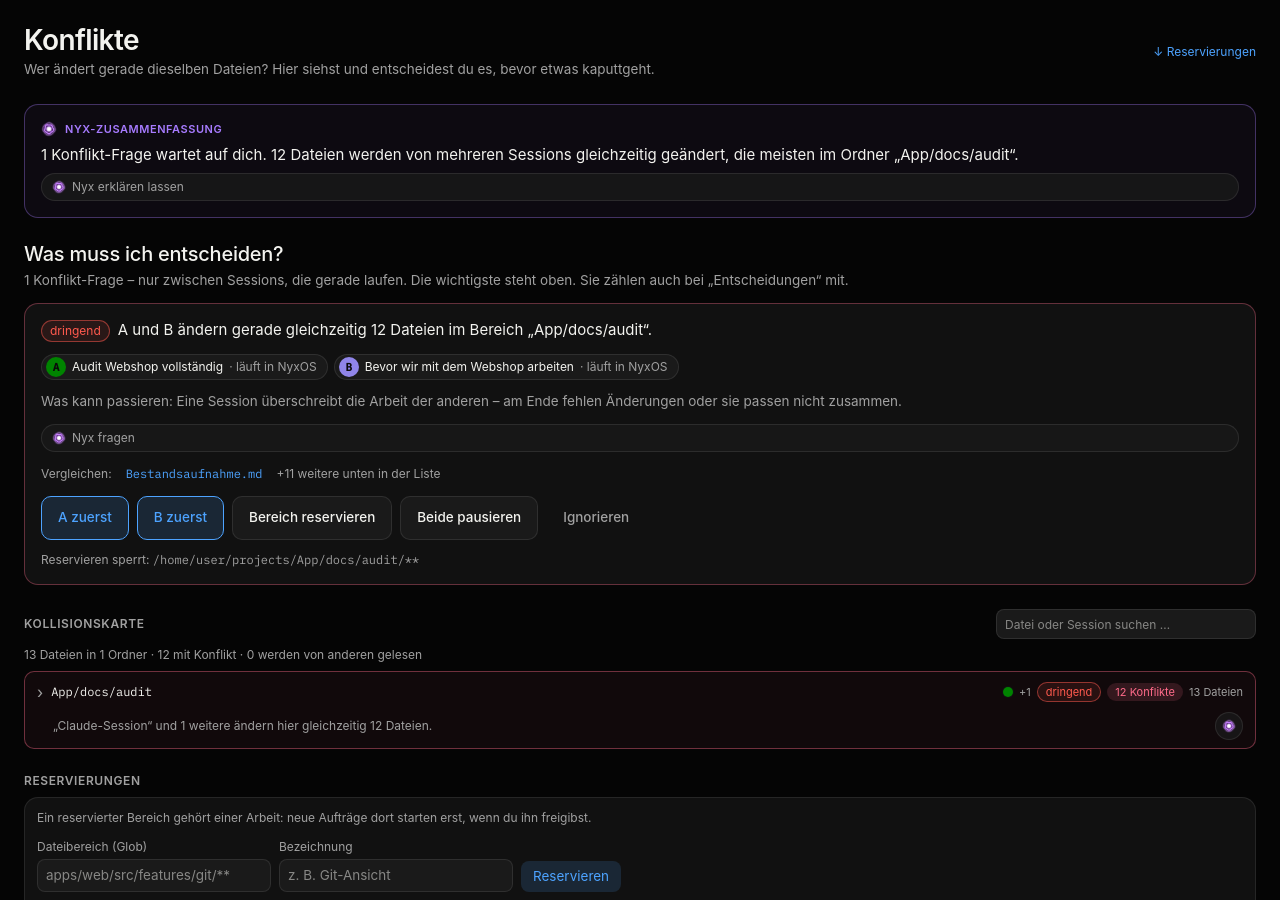
Test: Reservierungen von Hand › eine überlappende Reservierung wird abgelehnt, mit Begründung
Type "apps/web/src/features/git/Panel.tsx" into the field labelled "Dateibereich (Glob)" at (154, 876), box x1=37 y1=859 x2=271 y2=892
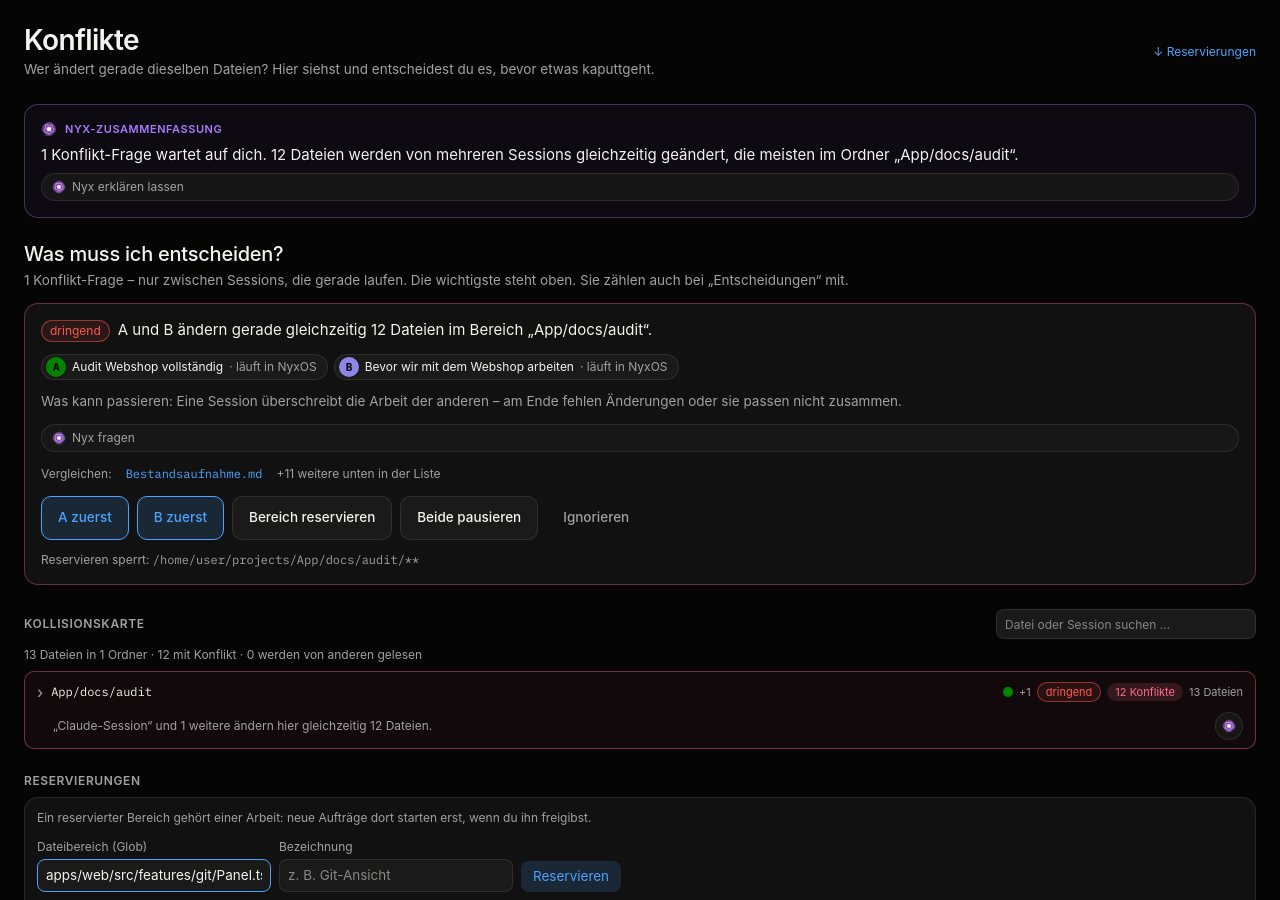
Type "Konkurrierend" into the field labelled "Bezeichnung" at (396, 876), box x1=279 y1=859 x2=513 y2=892
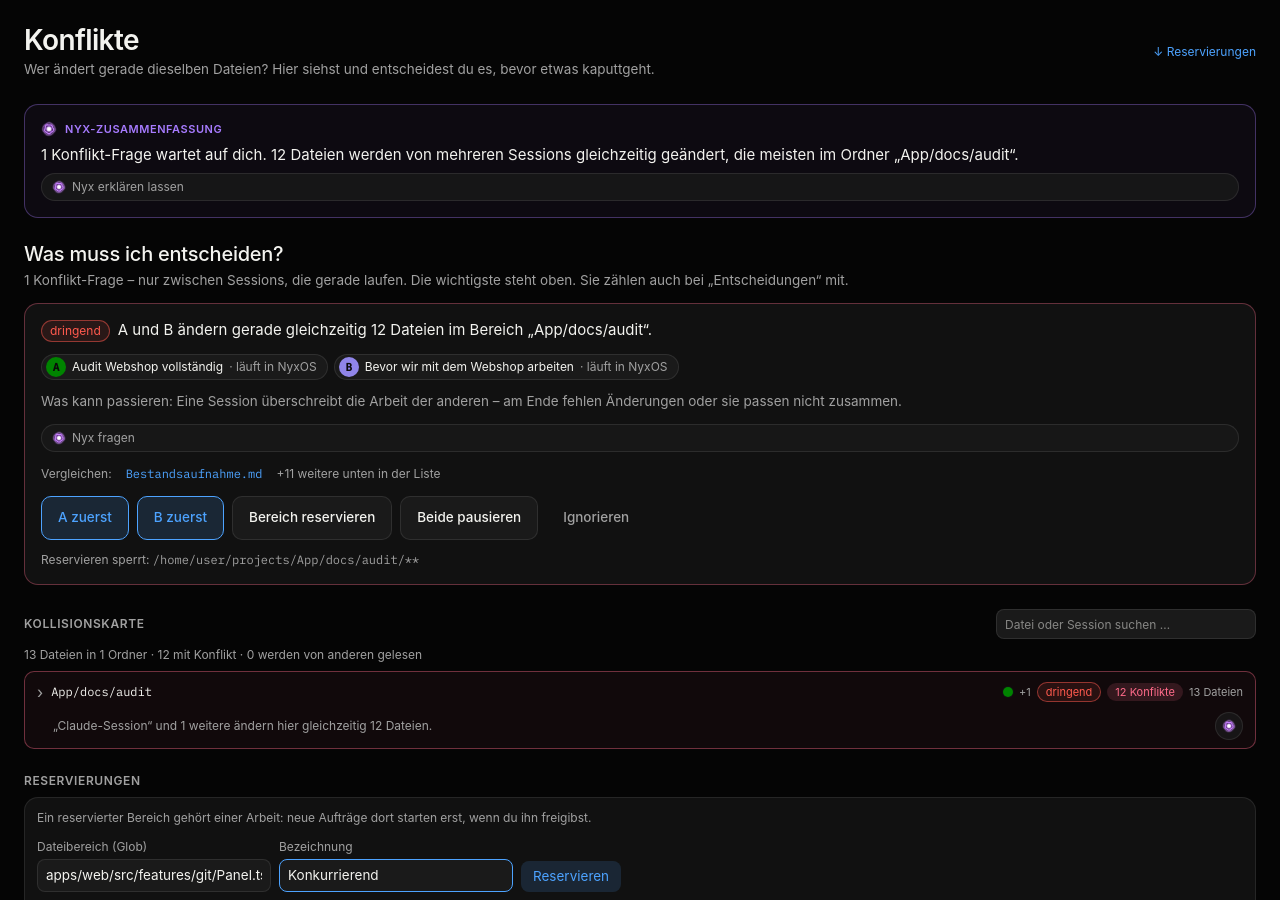
Click the button "Reservieren" at (571, 877), box x1=521 y1=861 x2=621 y2=892
(page scrolled)
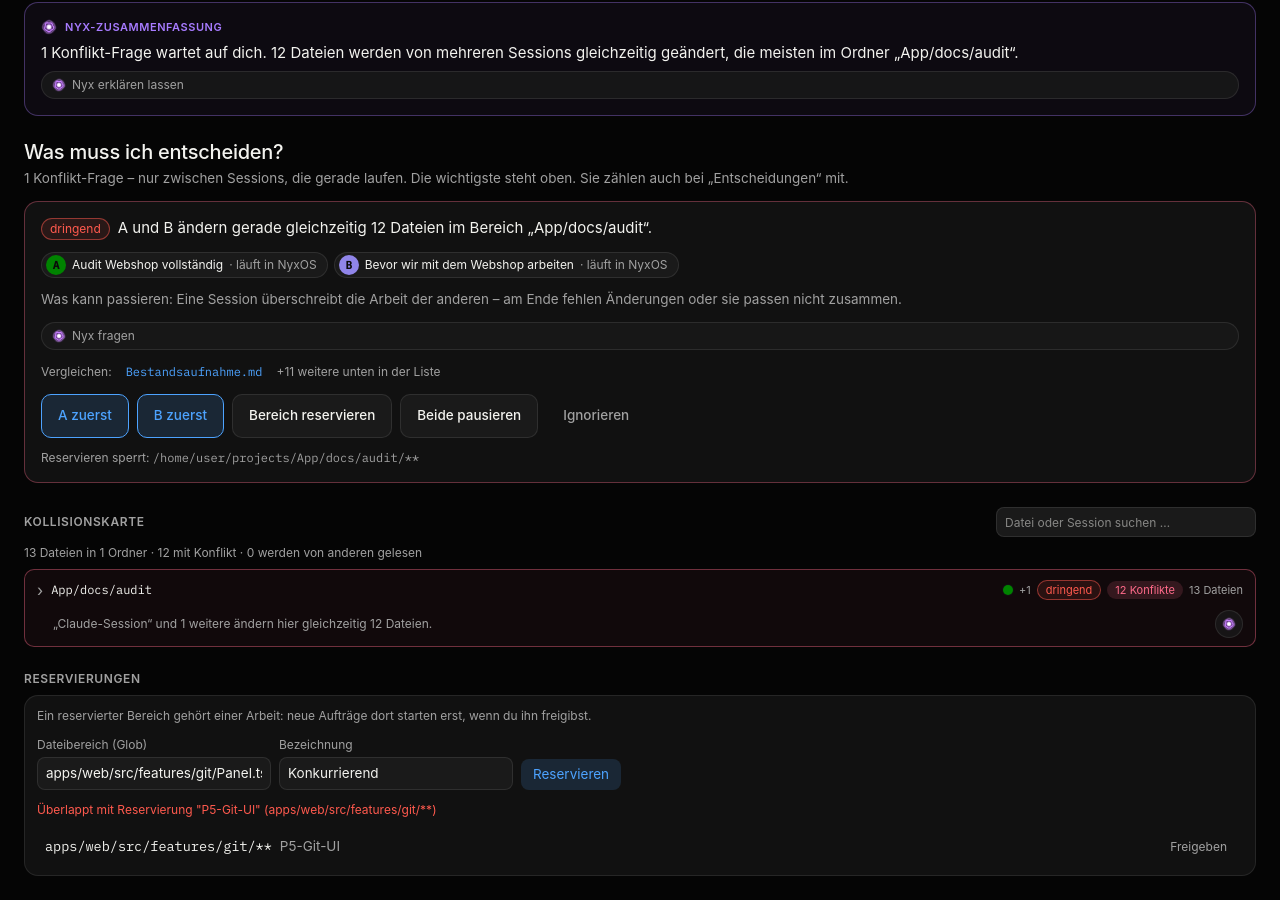
Expected: the text "Überlappt mit Reservierung" is shown, x1=37 y1=802 x2=436 y2=817
